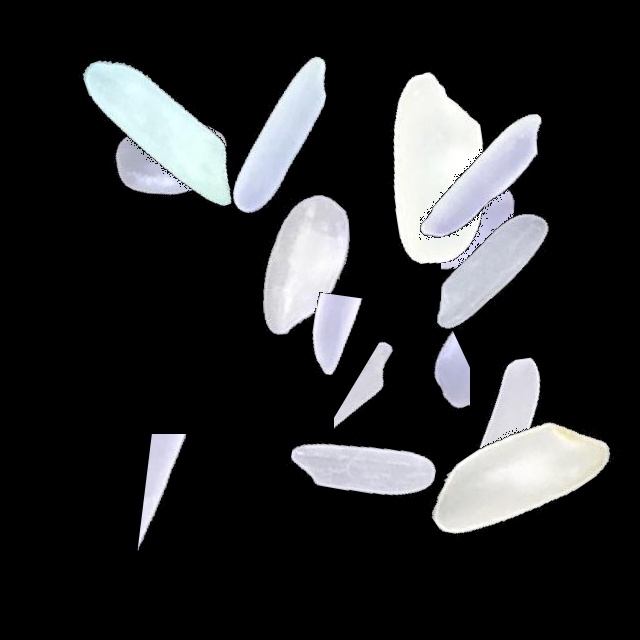Broken: (441, 106, 587, 356), (79, 434, 329, 553), (334, 308, 447, 558), (277, 226, 390, 476), (366, 256, 470, 506)
Full: (238, 344, 488, 594), (43, 30, 293, 280), (34, 7, 284, 257), (155, 10, 405, 260), (379, 298, 629, 548), (389, 351, 639, 601), (313, 40, 563, 290), (182, 138, 432, 388), (357, 49, 607, 299), (366, 145, 616, 395)
